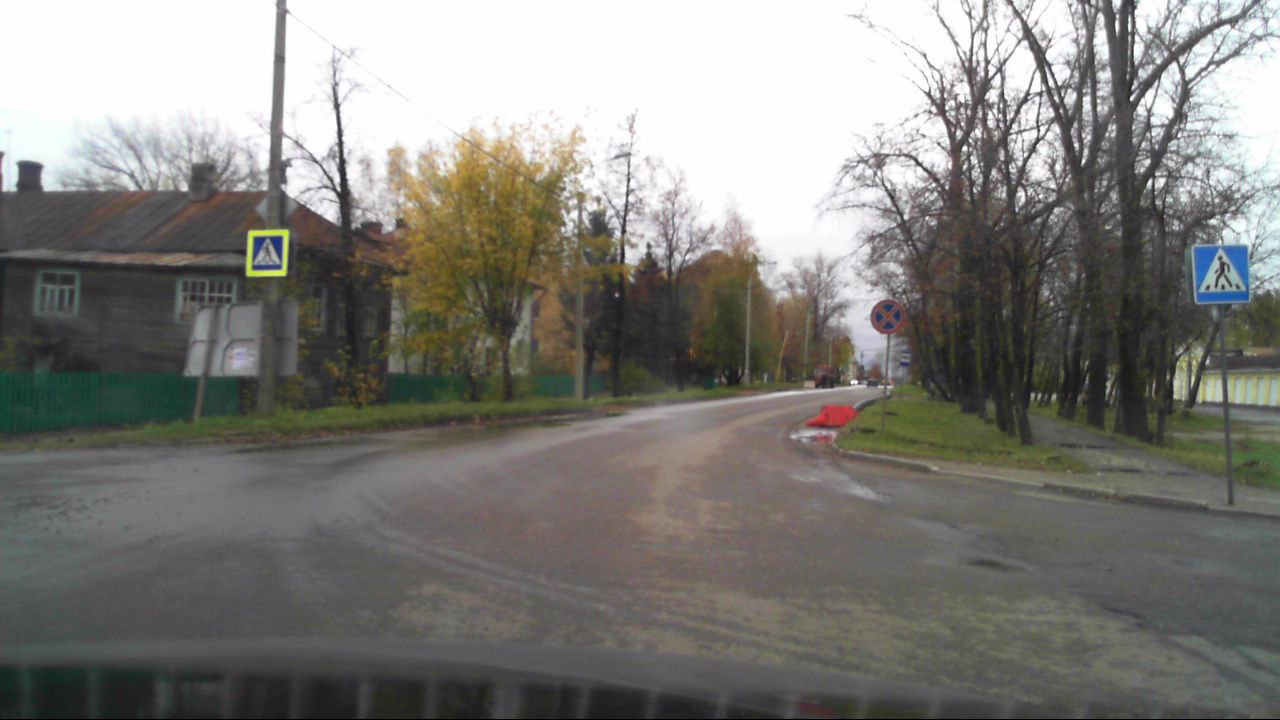No Parking: (870, 299, 905, 336)
